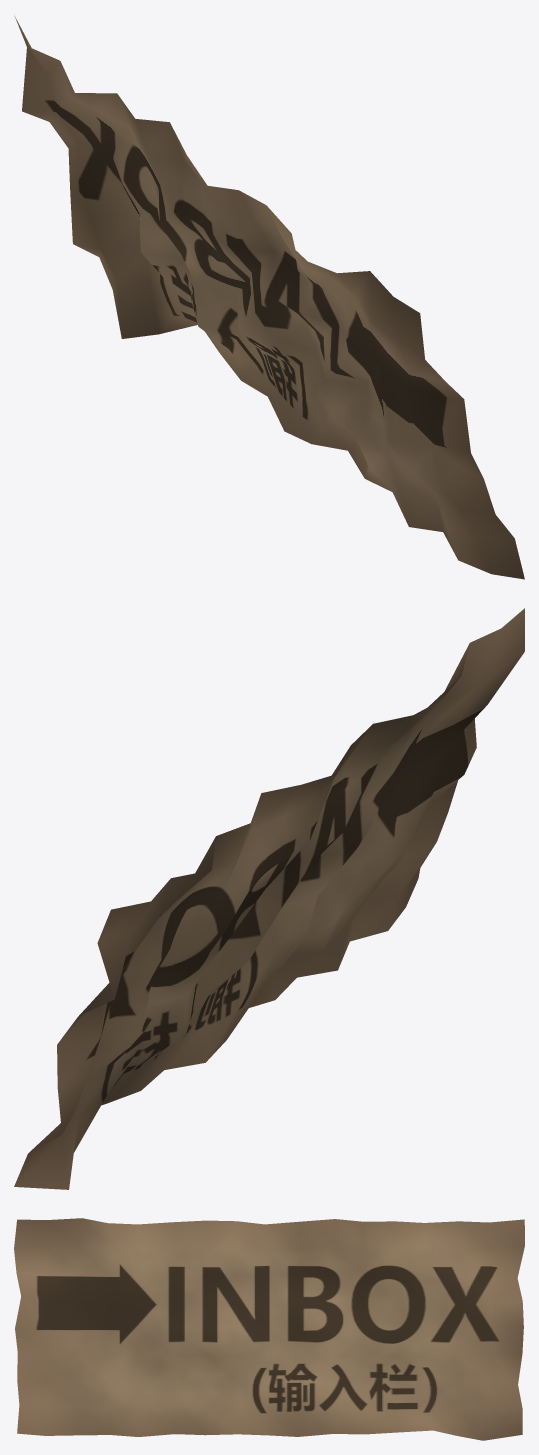
File: DefaultLevel_N_InBox.fbx
The picture shows the model from 3 angles, top to bottom: view 1: azimuth 30°, elevation 25°; view 2: azimuth 150°, elevation 25°; view 3: azimuth 270°, elevation 25°; orthographic projection. The views are drawn at different scales.
Visible parts, largest first — view 1: DefaultLevel_N_InBox; view 2: DefaultLevel_N_InBox; view 3: DefaultLevel_N_InBox.
Boxes of the visible parts, <box> form: DefaultLevel_N_InBox: <box>14,16,524,579</box>; DefaultLevel_N_InBox: <box>14,608,524,1189</box>; DefaultLevel_N_InBox: <box>14,1218,524,1440</box>.
Bounding box in the file's own units: 66.3 × 155 × 357.
